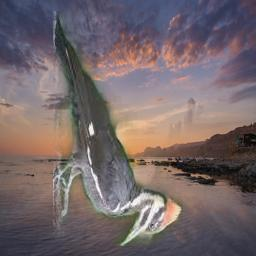Woodpecker: (53, 11, 183, 246)
